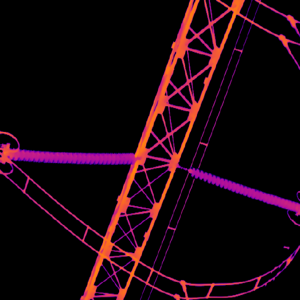insulator: (187, 163, 300, 215), (1, 146, 137, 165)
